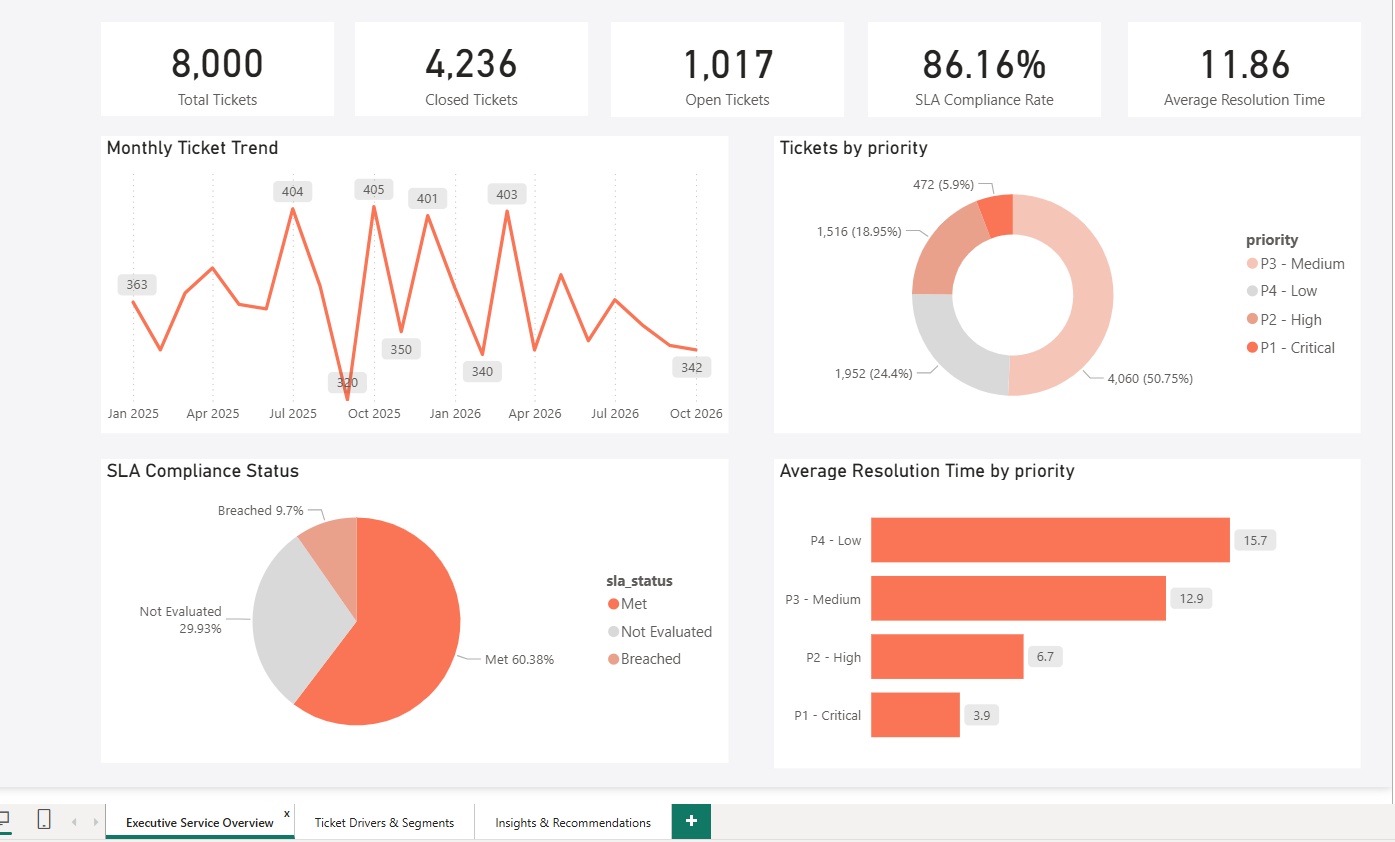

This screenshot's page, from the dashboard's own definition file:
{"tool":"powerbi","page":{"name":"Executive Service Overview","canvas":[1280,720],"ordinal":1},"visuals":[{"type":"card","fields":{"Values":["Measures-1.Total Tickets"]},"box":[111.3,27.2,210.9,85.1],"z":0},{"type":"card","fields":{"Values":["Measures-1.Closed Tickets"]},"box":[341.3,27.2,210.9,85.1],"z":1000},{"type":"card","fields":{"Values":["Measures-1.Open Tickets"]},"box":[573,27.2,210.9,86],"z":2000},{"type":"card","fields":{"Values":["Measures-1.SLA Compliance Rate"]},"box":[805.7,27.2,210.9,86],"z":3000},{"type":"card","fields":{"Values":["Measures-1.Average Resolution Time"]},"box":[1041,27.2,210.9,86],"z":4000},{"type":"lineChart","title":"Monthly Ticket Trend","fields":{"Category":["tickets.created_at.Variation.Date Hierarchy.Year","tickets.created_at.Variation.Date Hierarchy.Month"],"Y":["Measures-1.Total Tickets"]},"box":[111.3,130.4,567.6,268.9],"z":5000},{"type":"donutChart","title":"Tickets by priority","fields":{"Category":["tickets.priority"],"Y":["Measures-1.Total Tickets"]},"box":[720.6,130.4,531.4,268.9],"z":6000},{"type":"pieChart","title":"SLA Compliance Status","fields":{"Category":["tickets.sla_status"],"Y":["Measures-1.Total Tickets"]},"box":[111.3,422.7,567.6,275.2],"z":7000},{"type":"clusteredBarChart","fields":{"Category":["tickets.priority"],"Y":["Measures-1.Average Resolution Time"]},"box":[720.6,422.7,531.4,279.7],"z":8000}]}

Visuals, with their boxes on the page's 1280x720 design canvas (x1, y1, x2, y2). These are canvas units, not pixel positions in the 1395x842 screenshot, which may show the page scaled, cropped or inside an application window:
card - Measures-1.Total Tickets: bbox=[111, 27, 322, 112]
card - Measures-1.Closed Tickets: bbox=[341, 27, 552, 112]
card - Measures-1.Open Tickets: bbox=[573, 27, 784, 113]
card - Measures-1.SLA Compliance Rate: bbox=[806, 27, 1017, 113]
card - Measures-1.Average Resolution Time: bbox=[1041, 27, 1252, 113]
"Monthly Ticket Trend" lineChart: bbox=[111, 130, 679, 399]
"Tickets by priority" donutChart: bbox=[721, 130, 1252, 399]
"SLA Compliance Status" pieChart: bbox=[111, 423, 679, 698]
clusteredBarChart - tickets.priority x Measures-1.Average Resolution Time: bbox=[721, 423, 1252, 702]
